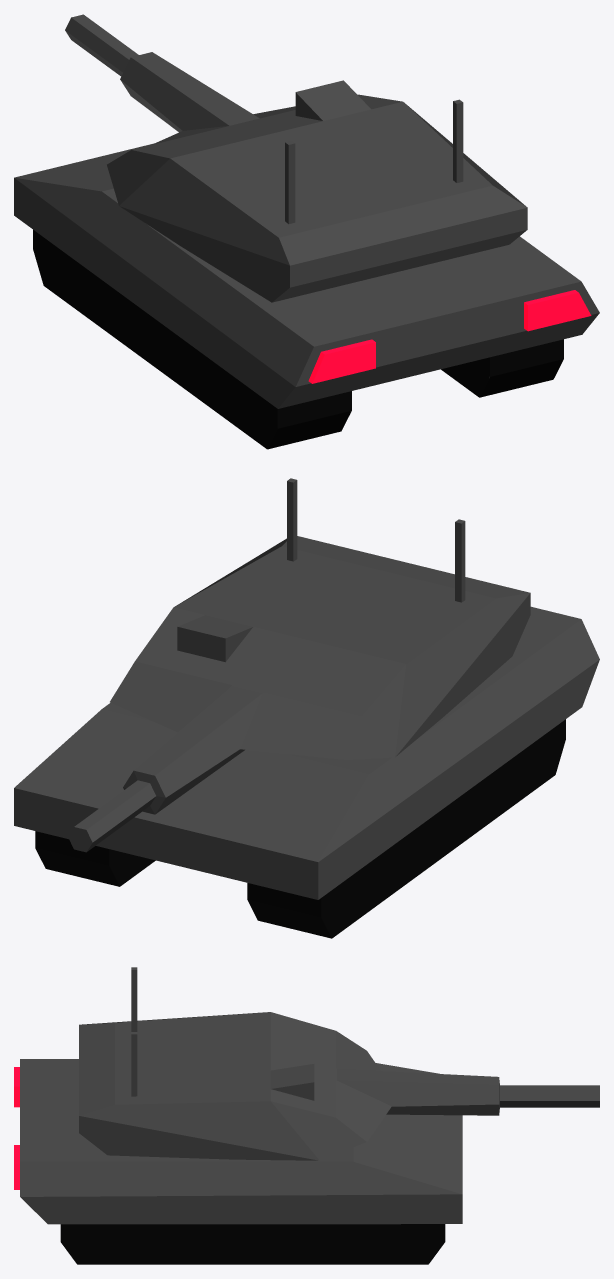
The model's file is TankGen2.gltf.
3 views of the same model, one above another, from view 1: azimuth 30°, elevation 25°; view 2: azimuth 150°, elevation 25°; view 3: azimuth 270°, elevation 25° (orthographic). The views are drawn at different scales.
Parts seen in each view (by area): view 1: Turret, Body, Tracks, TailLights, Barrel; view 2: Turret, Body, Tracks, Barrel; view 3: Turret, Body, Tracks, Barrel, TailLights.
Boxes of the visible parts, <box> form: Turret: <box>107,52,527,302</box>; Body: <box>14,143,599,408</box>; Tracks: <box>33,230,563,449</box>; TailLights: <box>308,290,591,383</box>; Barrel: <box>65,14,138,76</box>; Turret: <box>110,478,530,814</box>; Body: <box>14,606,599,899</box>; Tracks: <box>35,719,565,938</box>; Barrel: <box>68,780,155,852</box>; Turret: <box>79,967,499,1160</box>; Body: <box>20,1059,462,1224</box>; Tracks: <box>60,1224,445,1264</box>; Barrel: <box>500,1085,599,1107</box>; TailLights: <box>14,1067,19,1189</box>.
Bounding box in the file's own units: 16.34 × 13.63 × 34.67.
Materials: 2 (1 with a texture image).
